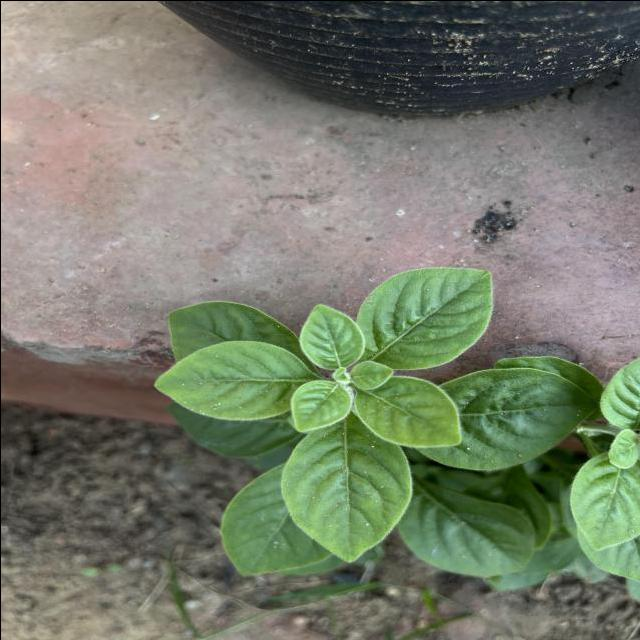Aerva lanata: (404, 364, 598, 474), (276, 415, 415, 565), (351, 264, 495, 372), (151, 336, 323, 424), (352, 372, 466, 449), (294, 300, 368, 371), (286, 377, 353, 435), (348, 357, 396, 390)
